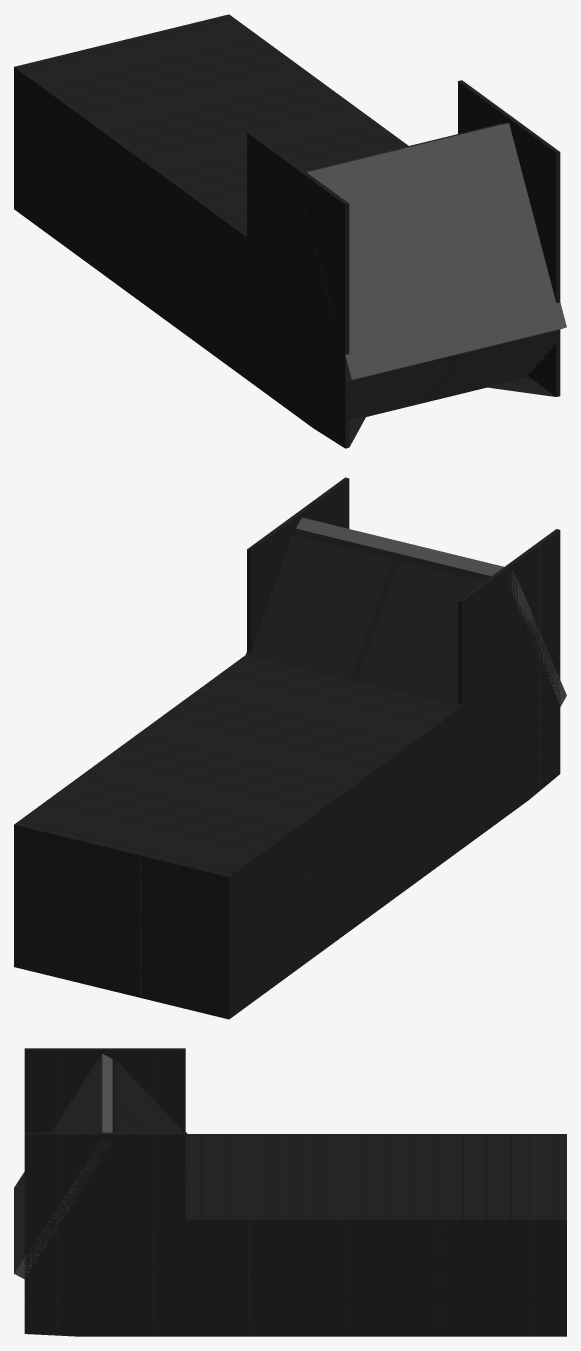
The model's file is darkroom finished files replaced.fbx.
3 renders of one model, top to bottom at view 1: azimuth 30°, elevation 25°; view 2: azimuth 150°, elevation 25°; view 3: azimuth 270°, elevation 25°, orthographic. The views are drawn at different scales.
Parts seen in each view (by area): view 1: pCube1, polySurface5, pCube11, pCube13; view 2: pCube1, pCube13, polySurface5; view 3: pCube1, polySurface5, pCube13.
Boxes of the visible parts, <box> form: pCube1: <box>14,14,560,448</box>; polySurface5: <box>297,123,566,381</box>; pCube11: <box>348,330,557,419</box>; pCube13: <box>245,123,502,241</box>; pCube1: <box>14,477,560,1019</box>; pCube13: <box>245,528,508,707</box>; polySurface5: <box>296,517,566,706</box>; pCube1: <box>24,1048,566,1336</box>; polySurface5: <box>14,1053,112,1279</box>; pCube13: <box>110,1058,189,1223</box>.
Bounding box in the file's own units: 800 × 878 × 2176.
Materials: 13 (4 with a texture image).
